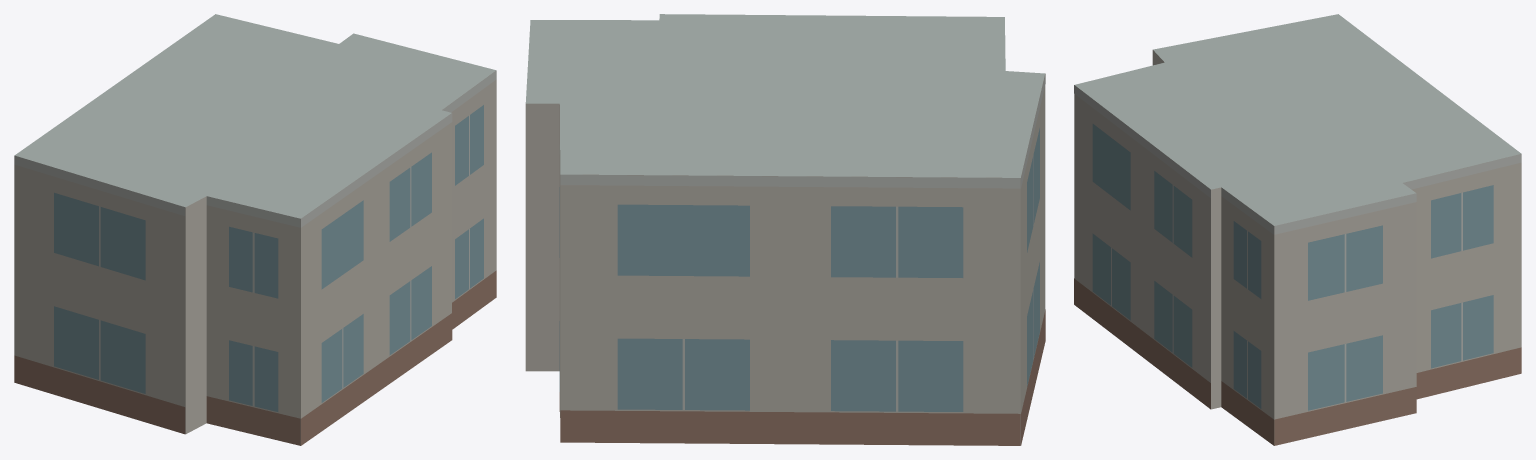
The model's file is survey-upis-32724162.glb.
3 views of the same model, side by side, from view 1: azimuth 30°, elevation 25°; view 2: azimuth 150°, elevation 25°; view 3: azimuth 270°, elevation 25° (orthographic). The views are drawn at different scales.
Parts seen in each view (by area): view 1: survey-upis-32724162.tmp; view 2: survey-upis-32724162.tmp; view 3: survey-upis-32724162.tmp.
Part boxes in pixels (x1=…): survey-upis-32724162.tmp: x1=14, y1=14, x2=496, y2=445; survey-upis-32724162.tmp: x1=525, y1=14, x2=1045, y2=445; survey-upis-32724162.tmp: x1=1074, y1=14, x2=1521, y2=445.
Bounding box in the file's own units: 12.63 × 6.1 × 11.26.
